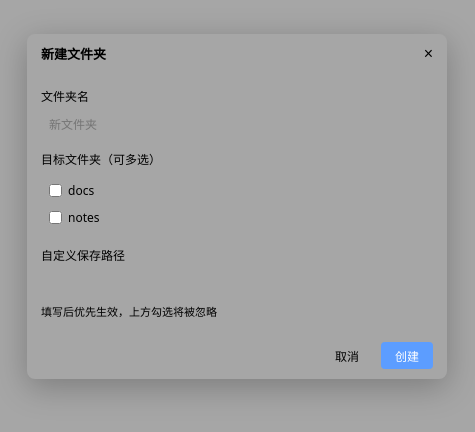
Scenario: v0.8.0 WP2 NewFolderDialog 组件 › 名称为空时不提交并提示
Click the button "创建" at (407, 356), box 381,343 -> 433,370
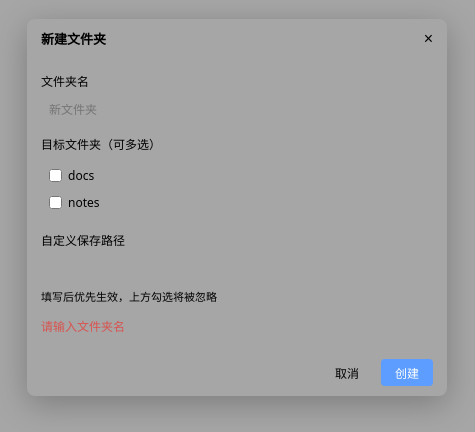
Check: the text "请输入文件夹名" is shown, box 41,318 -> 125,335
